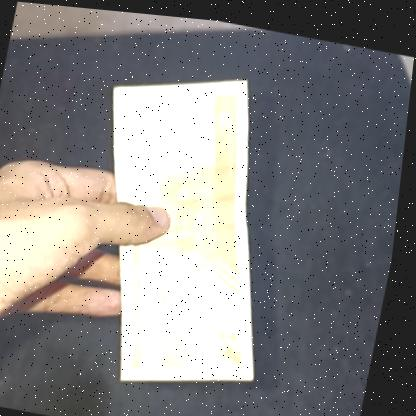twenty-back-vef: (64, 51, 316, 401)
